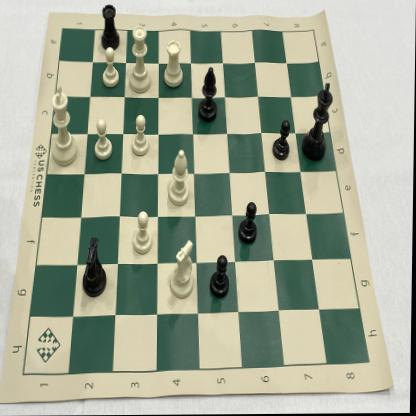black-bishop: (197, 64, 220, 126)
black-king: (301, 79, 338, 167)
black-knight: (79, 235, 110, 303)
black-pawn: (207, 251, 234, 301), (238, 196, 261, 248), (271, 118, 294, 164)
black-rook: (96, 1, 122, 53)
white-bishop: (167, 147, 192, 211)
white-king: (48, 83, 82, 169)
white-knight: (168, 234, 197, 303)
white-pawn: (131, 208, 156, 259), (130, 111, 154, 161), (92, 116, 116, 164), (100, 45, 121, 92)
white-queen: (126, 20, 155, 96)
white-rook: (162, 36, 187, 93)
